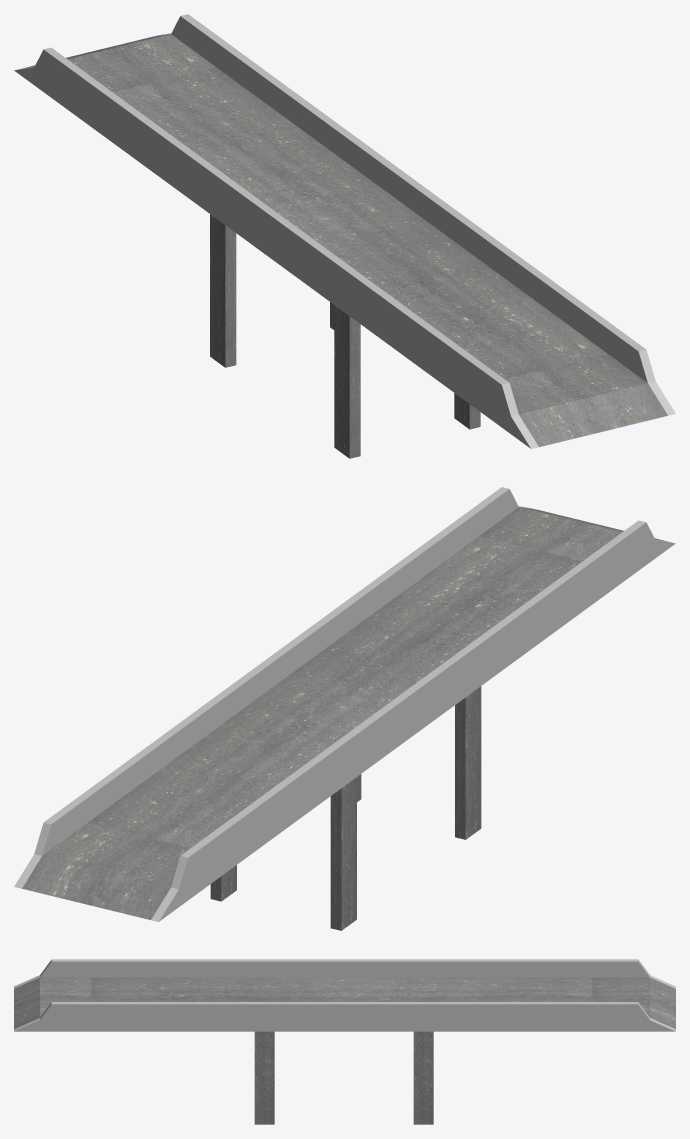
The model's file is Bridge.fbx.
3 renders of one model, top to bottom at view 1: azimuth 30°, elevation 25°; view 2: azimuth 150°, elevation 25°; view 3: azimuth 270°, elevation 25°, orthographic. The views are drawn at different scales.
Parts seen in each view (by area): view 1: Bridge; view 2: Bridge; view 3: Bridge.
Boxes of the visible parts, left/top/right/bottom form: Bridge: left=14, top=14, right=675, bottom=458; Bridge: left=14, top=487, right=675, bottom=930; Bridge: left=14, top=959, right=675, bottom=1124.
Bounding box in the file's own units: 168 × 212 × 1038.
